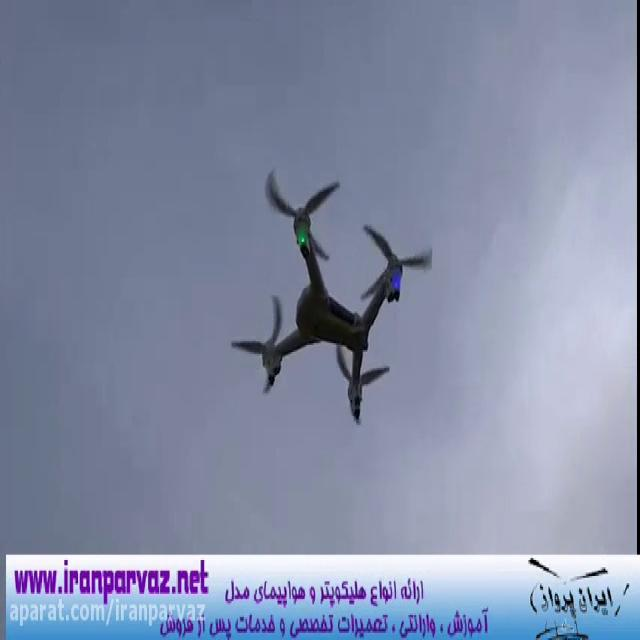drone: (227, 162, 435, 430)
